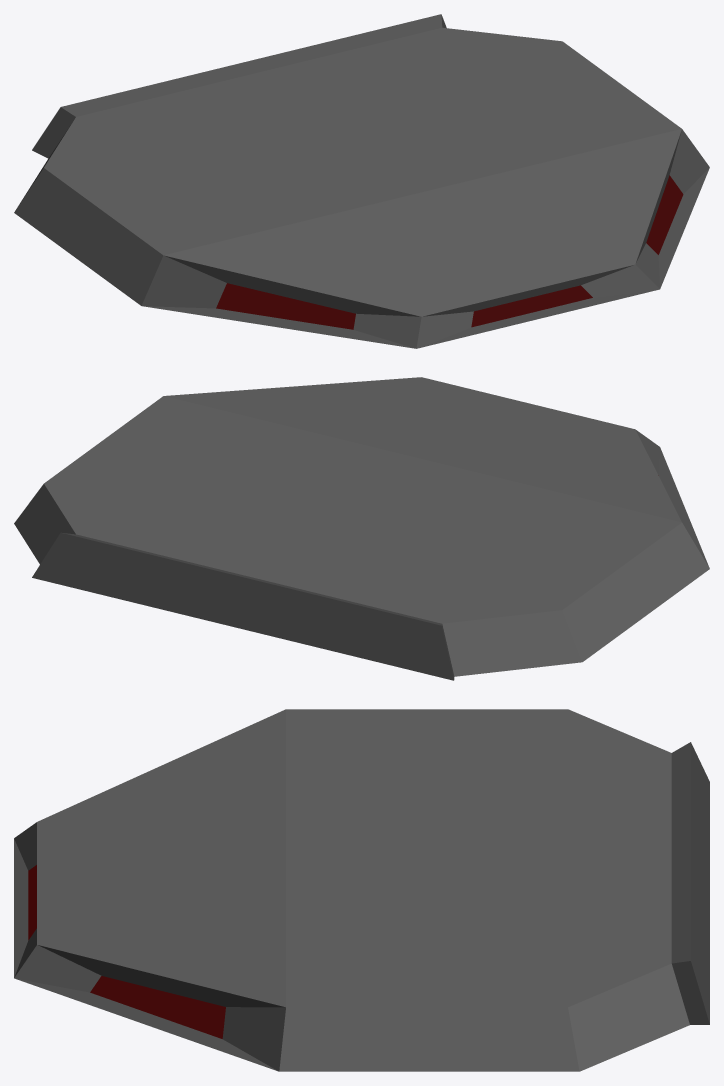
Rendered from enemyship5.glb.
The picture shows the model from 3 angles, top to bottom: view 1: azimuth 30°, elevation 25°; view 2: azimuth 150°, elevation 25°; view 3: azimuth 270°, elevation 25°; orthographic projection. The views are drawn at different scales.
Parts seen in each view (by area): view 1: Ship; view 2: Ship; view 3: Ship.
Boxes of the visible parts, <box> form: Ship: <box>14,14,709,348</box>; Ship: <box>14,377,709,680</box>; Ship: <box>14,709,709,1071</box>.
Size of the model in its own units: 1.82 by 0.1479 by 1.64.
